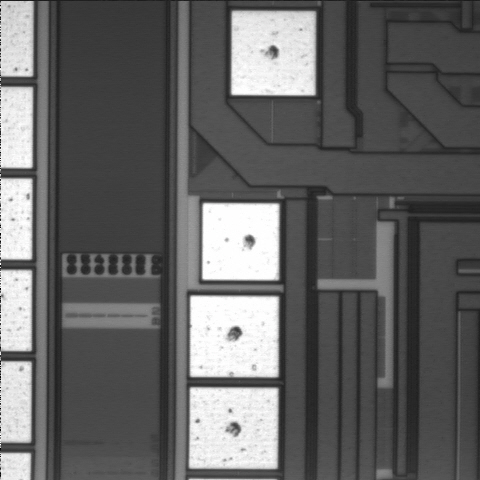pad: (189, 387, 278, 469), (190, 296, 279, 377), (231, 11, 315, 95), (202, 203, 279, 280)
